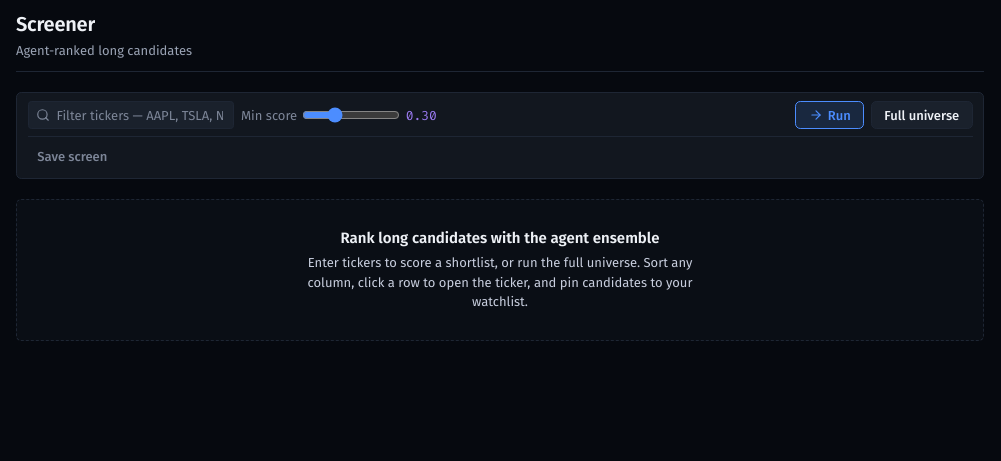
Test: ScreenerPage always-visible refresh (SC-07) › shows a refresh button even when the result was not cached
Click the button "Full universe": (922, 115) [871,101,972,129]
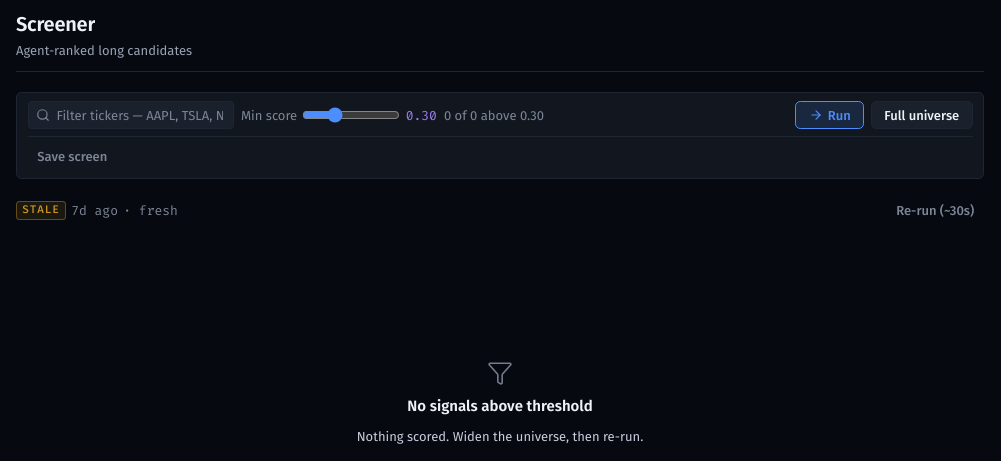
Expected: the button "Re-run (~30s)" is shown, [886,198,984,223]
